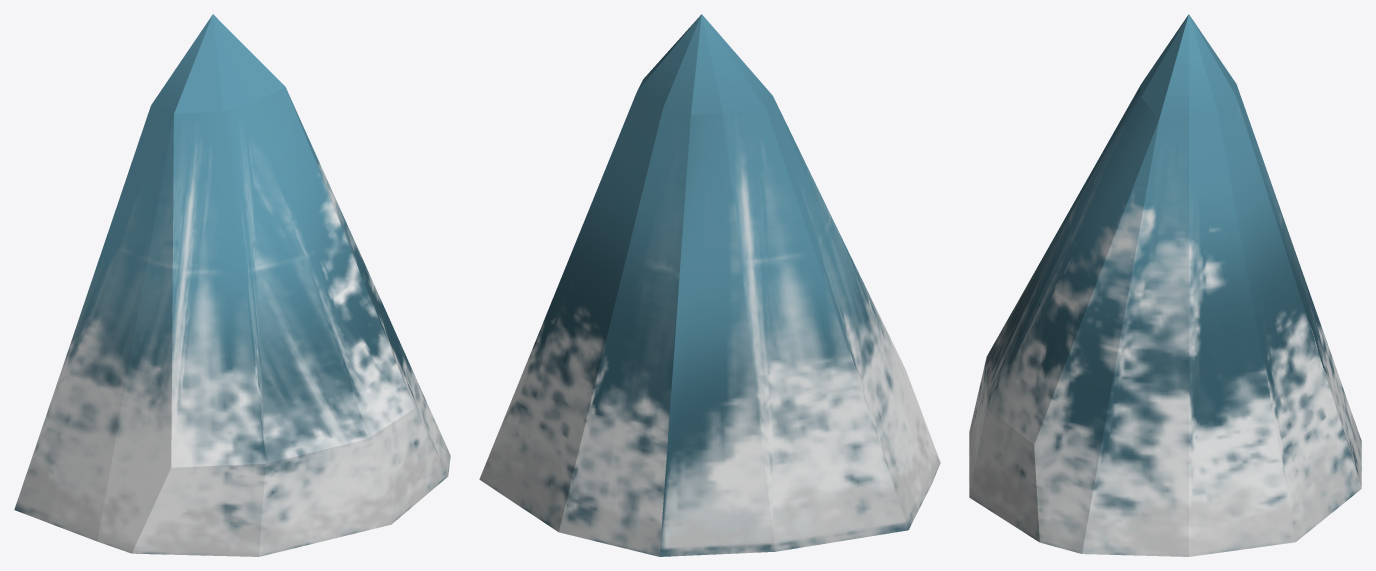
File: ms_iceShape03.fbx
The picture shows the model from 3 angles, left to right: view 1: azimuth 30°, elevation 25°; view 2: azimuth 150°, elevation 25°; view 3: azimuth 270°, elevation 25°; orthographic projection. The views are drawn at different scales.
Visible parts, largest first — view 1: polySurface4; view 2: polySurface4; view 3: polySurface4.
Part boxes in pixels (x1,y1,x2,y2): polySurface4: [14, 14, 450, 556]; polySurface4: [479, 14, 940, 556]; polySurface4: [969, 14, 1361, 556].
Size of the model in its own units: 226 by 249 by 197.
